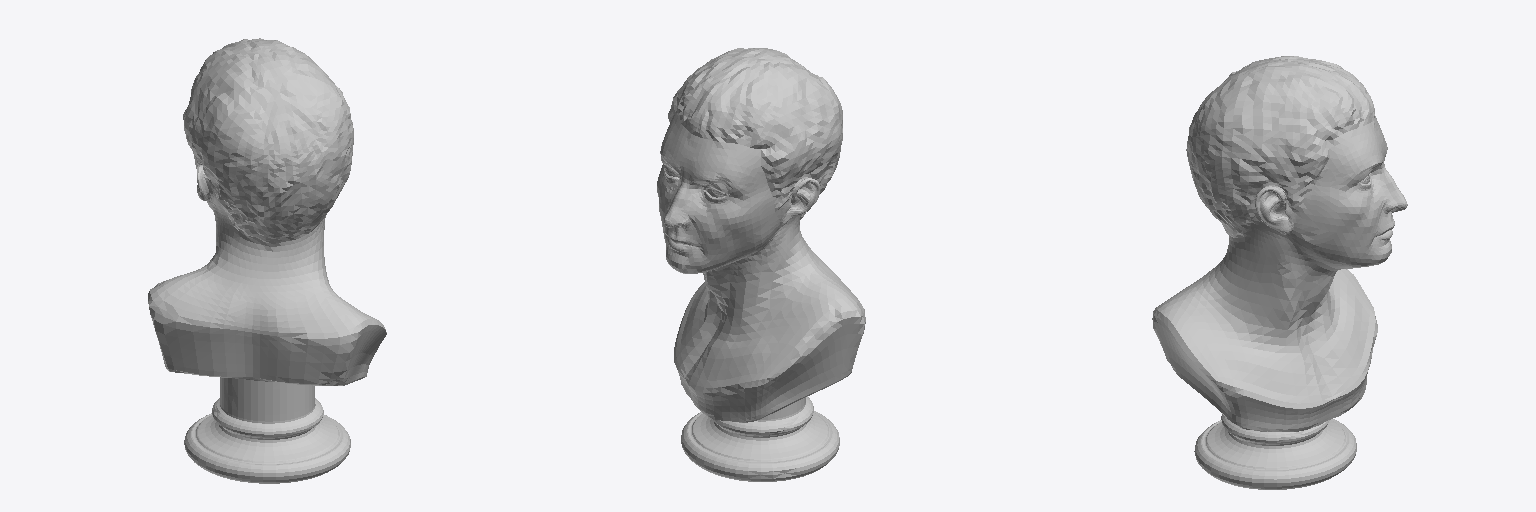
Rendered from marable_bust.obj.
3 views of the same model, side by side, from view 1: azimuth 30°, elevation 25°; view 2: azimuth 150°, elevation 25°; view 3: azimuth 270°, elevation 25° (orthographic).
Visible parts, largest first — view 1: Marable_Bust; view 2: Marable_Bust; view 3: Marable_Bust.
Boxes of the visible parts, <box> form: Marable_Bust: <box>148,38,386,483</box>; Marable_Bust: <box>657,48,865,481</box>; Marable_Bust: <box>1152,56,1407,489</box>.
Size of the model in its own units: 0.2712 by 0.5149 by 0.2996.